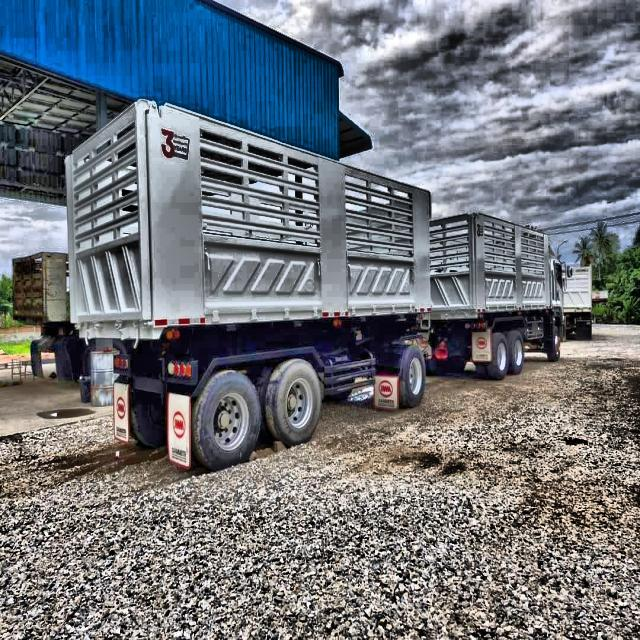trailer: (57, 82, 575, 480)
